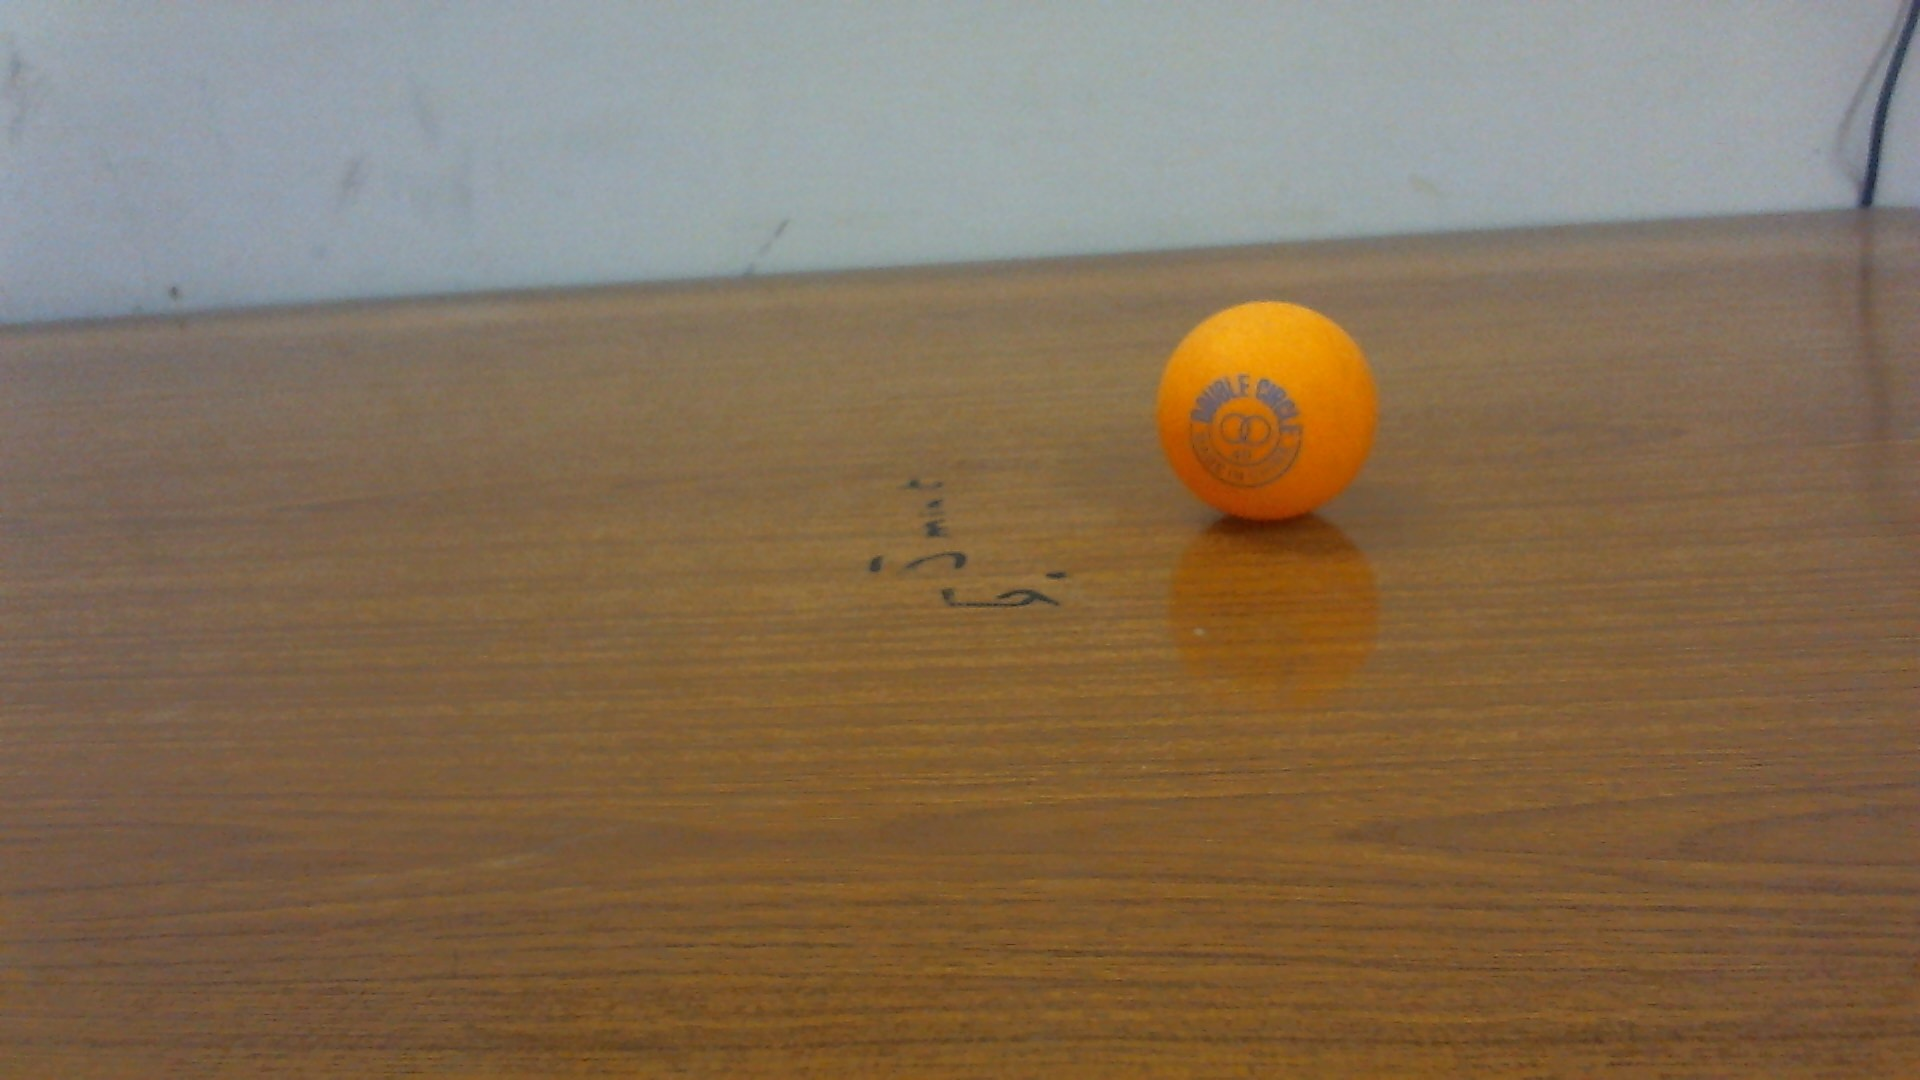ball: (1154, 295, 1379, 521)
